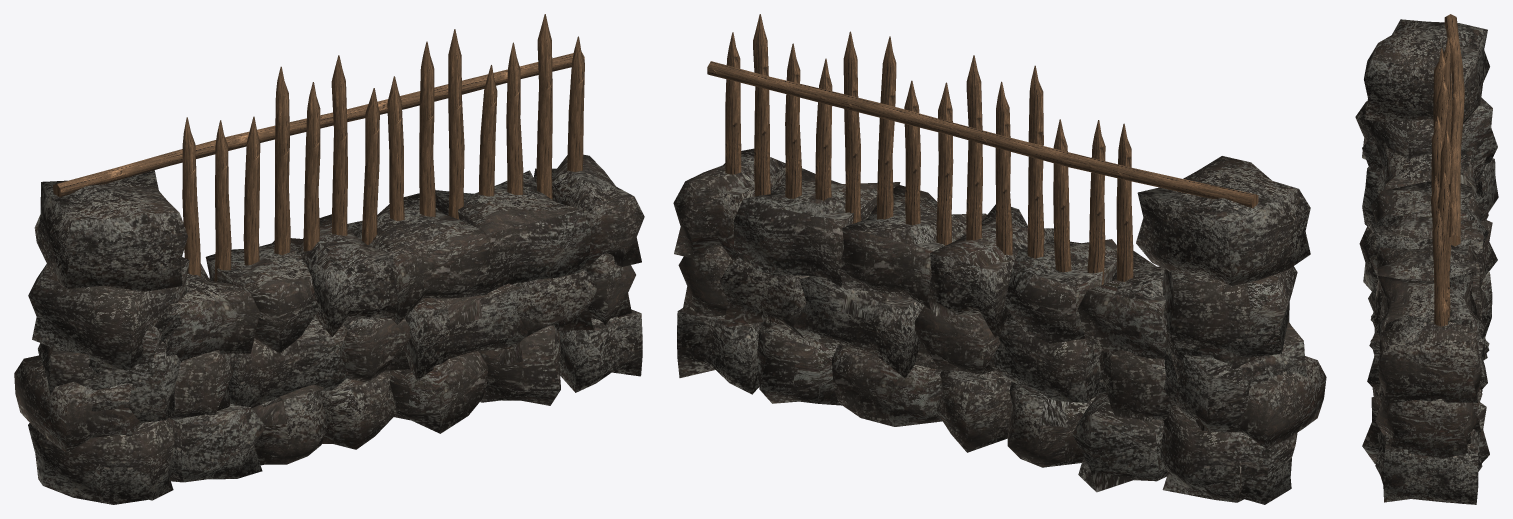
The model's file is SM_Bld_Stone_Fence.gltf.
3 renders of one model, left to right at view 1: azimuth 30°, elevation 25°; view 2: azimuth 150°, elevation 25°; view 3: azimuth 270°, elevation 25°, orthographic. The views are drawn at different scales.
Parts seen in each view (by area): view 1: SM_Bld_Stone_Fence; view 2: SM_Bld_Stone_Fence; view 3: SM_Bld_Stone_Fence.
Boxes of the visible parts, x1,y1,x2,y2 form: SM_Bld_Stone_Fence: (14, 14, 644, 504); SM_Bld_Stone_Fence: (673, 14, 1326, 504); SM_Bld_Stone_Fence: (1355, 14, 1498, 504).
Bounding box in the file's own units: 4.45 × 2.73 × 1.09.
2 materials, 2 textured.
